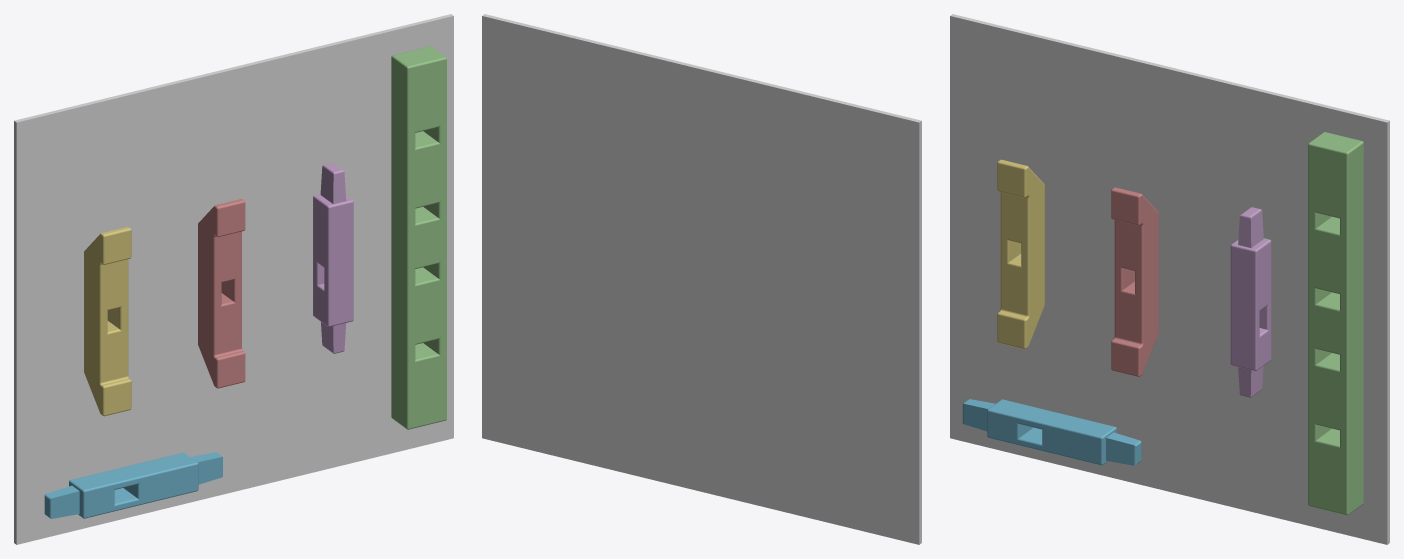
File: pickup_layout.glb
3 renders of one model, left to right at view 1: azimuth 30°, elevation 25°; view 2: azimuth 150°, elevation 25°; view 3: azimuth 330°, elevation 25°, orthographic.
Parts seen in each view (by area): view 1: world, 6.obj, 1.obj, 0.obj, 2.obj, 3.obj; view 2: world; view 3: world, 6.obj, 1.obj, 0.obj, 2.obj, 3.obj.
Boxes of the visible parts, left/top/right/bottom form: world: left=14, top=14, right=453, bottom=544; 6.obj: left=391, top=46, right=446, bottom=429; 1.obj: left=84, top=226, right=131, bottom=416; 0.obj: left=198, top=199, right=245, bottom=388; 2.obj: left=44, top=452, right=222, bottom=518; 3.obj: left=313, top=163, right=353, bottom=353; world: left=482, top=14, right=921, bottom=544; world: left=950, top=14, right=1389, bottom=544; 6.obj: left=1308, top=132, right=1363, bottom=515; 1.obj: left=997, top=159, right=1044, bottom=349; 0.obj: left=1111, top=187, right=1158, bottom=376; 2.obj: left=962, top=399, right=1141, bottom=465; 3.obj: left=1230, top=207, right=1271, bottom=397.
Size of the model in its own units: 19.2 by 17.72 by 1.72.
